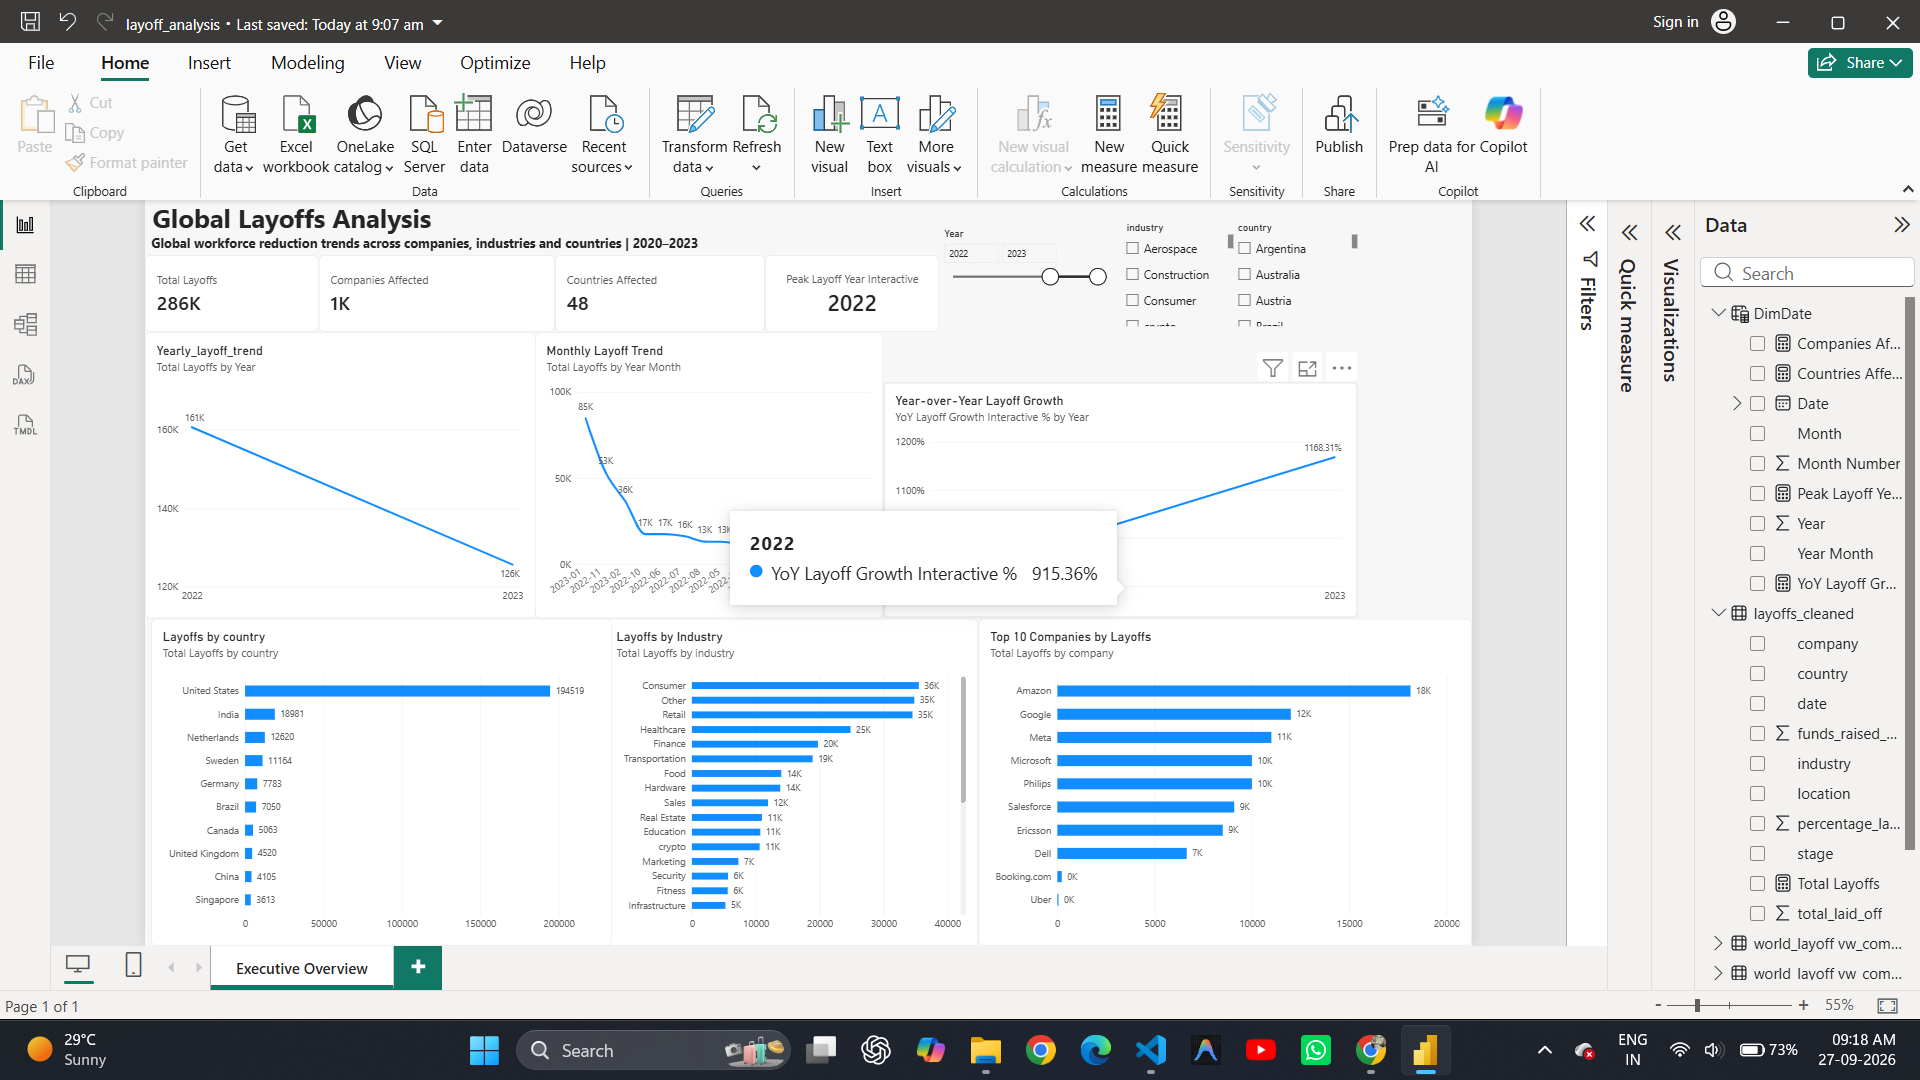

The page's visual inventory and layout, read from the dashboard file:
{"tool":"powerbi","page":{"name":"Executive Overview","canvas":[1920,1080],"ordinal":0},"visuals":[{"type":"textbox","box":[10.1,0,412.2,60.7],"z":0},{"type":"textbox","box":[9.6,48.1,1059.6,50],"z":1000},{"type":"cardVisual","fields":{"Data":["layoffs_cleaned.Total Layoffs"]},"box":[0,80,251.1,111.1],"z":2000},{"type":"cardVisual","fields":{"Data":["DimDate.Companies Affected"]},"box":[251.1,80,342.2,111.1],"z":3000},{"type":"cardVisual","fields":{"Data":["DimDate.Countries Affected"]},"box":[593.3,80,304.4,111.1],"z":4000},{"type":"cardVisual","fields":{"Data":["DimDate.Peak Layoff Year Interactive"]},"box":[897.8,80,251.1,111.1],"z":5000},{"type":"lineChart","title":"Yearly_layoff_trend","fields":{"Category":["DimDate.Year"],"Y":["layoffs_cleaned.Total Layoffs"]},"box":[0,192.3,565.4,413.5],"z":6000},{"type":"clusteredBarChart","title":"Top 10 Companies by Layoffs","fields":{"Category":["layoffs_cleaned.company"],"Y":["layoffs_cleaned.Total Layoffs"]},"box":[1206.7,606.7,713.3,473.3],"z":7000},{"type":"clusteredBarChart","title":"Layoffs by Industry","fields":{"Category":["layoffs_cleaned.industry"],"Y":["layoffs_cleaned.Total Layoffs"]},"box":[666.7,606.7,540,473.3],"z":8000},{"type":"clusteredBarChart","title":"Layoffs by country","fields":{"Category":["layoffs_cleaned.country"],"Y":["layoffs_cleaned.Total Layoffs"]},"box":[9.9,607,666.7,473.3],"z":9000},{"type":"lineChart","title":"Monthly Layoff Trend","fields":{"Category":["DimDate.Year Month"],"Y":["layoffs_cleaned.Total Layoffs"]},"box":[565.4,192.3,503.8,413.5],"z":10000},{"type":"lineChart","title":"Year-over-Year Layoff Growth","fields":{"Category":["DimDate.Year"],"Y":["DimDate.YoY Layoff Growth Interactive %"]},"box":[1069.5,264.2,685.9,340.2],"z":11000},{"type":"slicer","fields":{"Values":["DimDate.Year"]},"box":[1149.1,39.8,246.1,152],"z":12000},{"type":"slicer","fields":{"Values":["layoffs_cleaned.industry"]},"box":[1413.3,30.8,162,152],"z":13000},{"type":"slicer","fields":{"Values":["layoffs_cleaned.country"]},"box":[1575,31,181,152],"z":14000}]}

Visuals, with their boxes on the page's 1920x1080 design canvas (x1, y1, x2, y2). These are canvas units, not pixel positions in the 1920x1080 screenshot, which may show the page scaled, cropped or inside an application window:
textbox: [x1=10, y1=0, x2=422, y2=61]
textbox: [x1=10, y1=48, x2=1069, y2=98]
cardVisual - layoffs_cleaned.Total Layoffs: [x1=0, y1=80, x2=251, y2=191]
cardVisual - DimDate.Companies Affected: [x1=251, y1=80, x2=593, y2=191]
cardVisual - DimDate.Countries Affected: [x1=593, y1=80, x2=898, y2=191]
cardVisual - DimDate.Peak Layoff Year Interactive: [x1=898, y1=80, x2=1149, y2=191]
"Yearly_layoff_trend" lineChart: [x1=0, y1=192, x2=565, y2=606]
"Top 10 Companies by Layoffs" clusteredBarChart: [x1=1207, y1=607, x2=1920, y2=1080]
"Layoffs by Industry" clusteredBarChart: [x1=667, y1=607, x2=1207, y2=1080]
"Layoffs by country" clusteredBarChart: [x1=10, y1=607, x2=677, y2=1080]
"Monthly Layoff Trend" lineChart: [x1=565, y1=192, x2=1069, y2=606]
"Year-over-Year Layoff Growth" lineChart: [x1=1070, y1=264, x2=1755, y2=604]
slicer - DimDate.Year: [x1=1149, y1=40, x2=1395, y2=192]
slicer - layoffs_cleaned.industry: [x1=1413, y1=31, x2=1575, y2=183]
slicer - layoffs_cleaned.country: [x1=1575, y1=31, x2=1756, y2=183]
